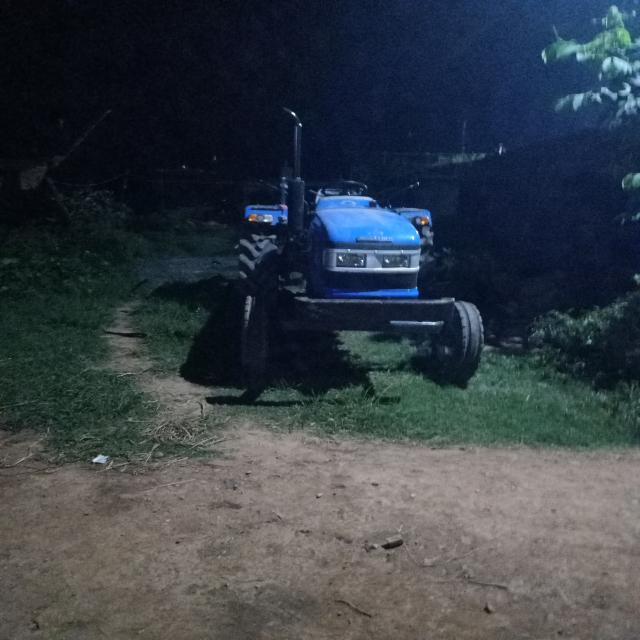tractor: (170, 100, 506, 402)
